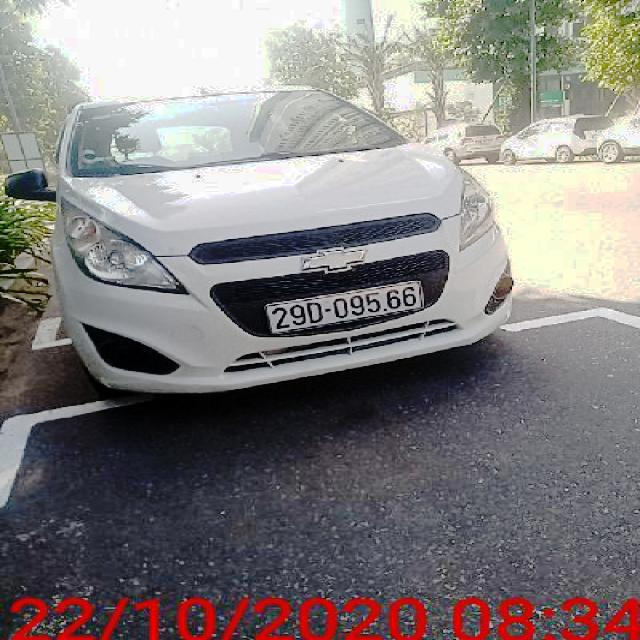license_plate: (265, 283, 424, 334)
